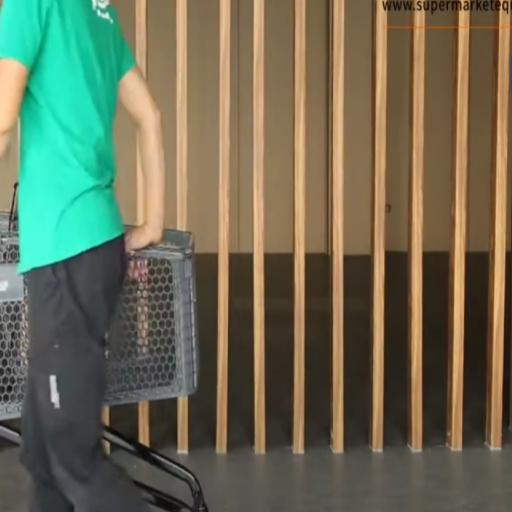shopping_cart: (0, 229, 207, 512)
